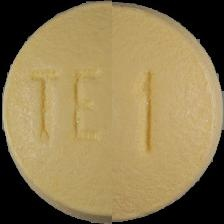42291-374: (0, 0, 224, 224)
